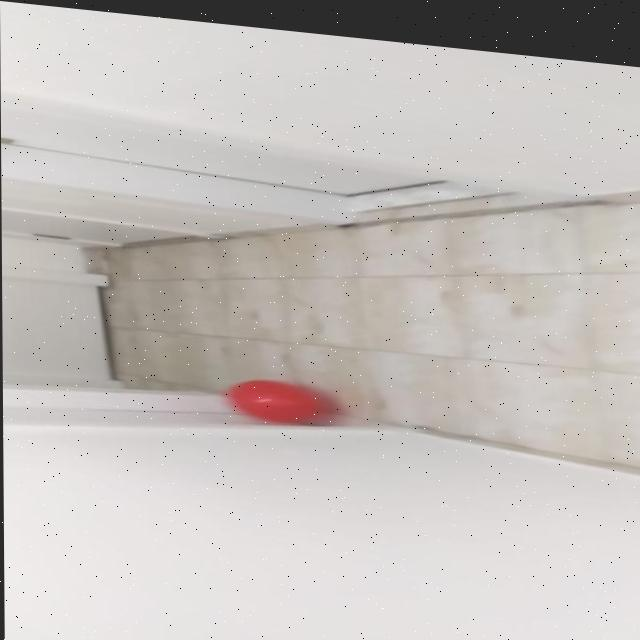balloon: (216, 366, 341, 427)
